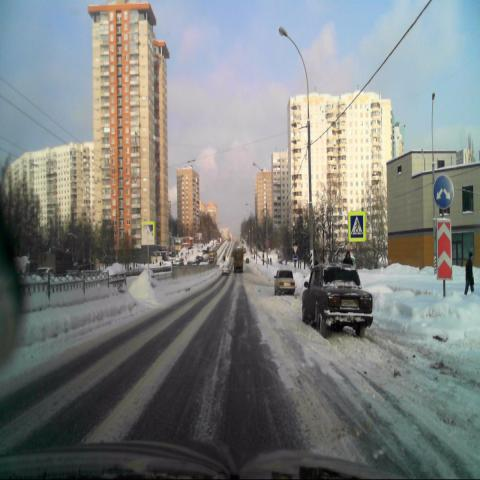4_2_3: (432, 174, 453, 213)
